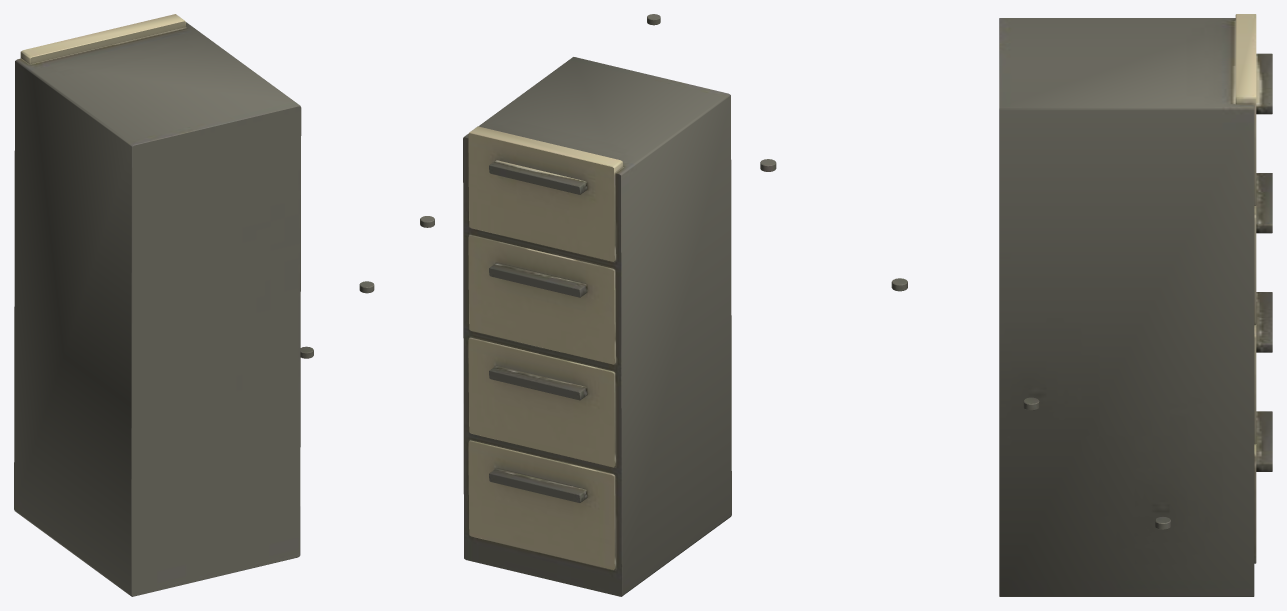
The model's file is LV_filing_cabinet.glb.
The picture shows the model from 3 angles, left to right: view 1: azimuth 30°, elevation 25°; view 2: azimuth 150°, elevation 25°; view 3: azimuth 270°, elevation 25°; orthographic projection. The views are drawn at different scales.
Parts seen in each view (by area): view 1: LV_filing_cabinet; view 2: LV_filing_cabinet; view 3: LV_filing_cabinet.
Boxes of the visible parts, bbox=[...] form: LV_filing_cabinet: bbox=[14, 14, 434, 596]; LV_filing_cabinet: bbox=[463, 14, 731, 596]; LV_filing_cabinet: bbox=[760, 14, 1272, 596].
Size of the model in its own units: 0.6 by 1.34 by 1.25.
Materials: 1 (1 with a texture image).
